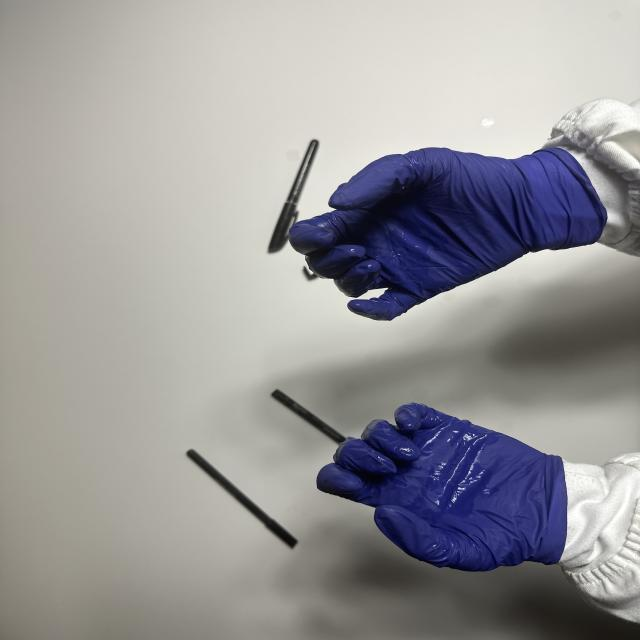gloves_contaminated: (289, 149, 604, 320), (317, 403, 567, 571)
